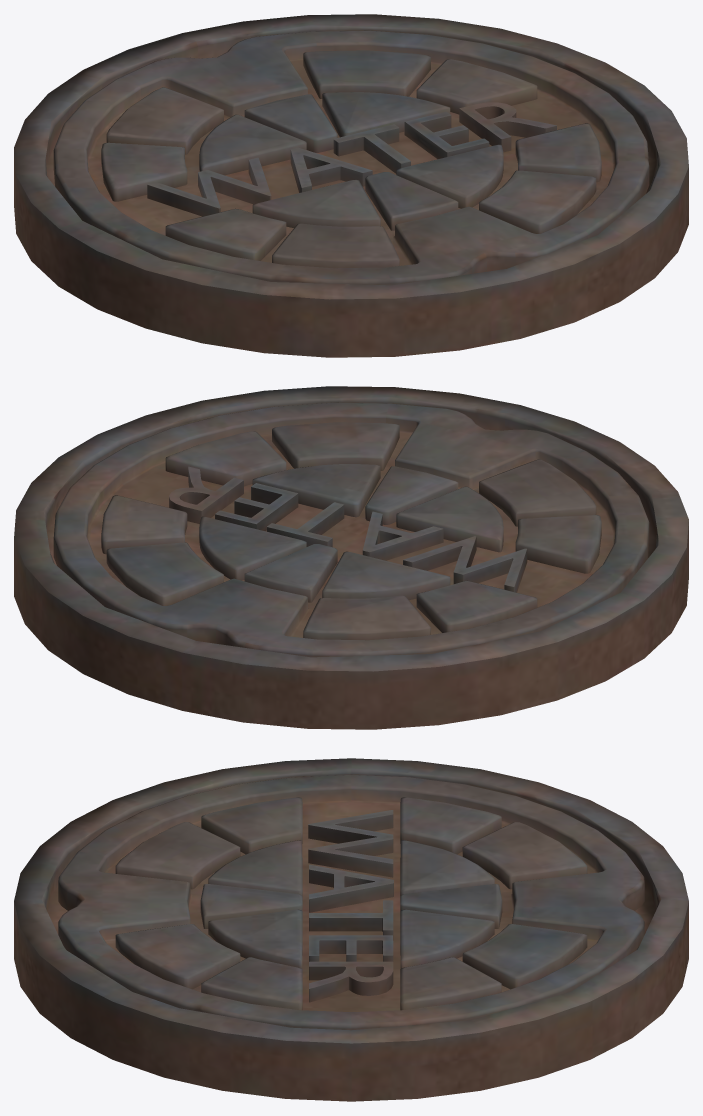
Rendered from water_manhole_cover.glb.
3 views of the same model, one above another, from view 1: azimuth 30°, elevation 25°; view 2: azimuth 150°, elevation 25°; view 3: azimuth 270°, elevation 25° (orthographic).
Parts seen in each view (by area): view 1: water_manhole_cover, water_manhole_cover_frame; view 2: water_manhole_cover, water_manhole_cover_frame; view 3: water_manhole_cover, water_manhole_cover_frame.
Part boxes in pixels (x1,y1,x2,y2): water_manhole_cover: (53, 30, 649, 285); water_manhole_cover_frame: (14, 14, 688, 357); water_manhole_cover: (53, 402, 649, 657); water_manhole_cover_frame: (14, 386, 688, 729); water_manhole_cover: (58, 774, 644, 1030); water_manhole_cover_frame: (14, 758, 688, 1101).
Size of the model in its own units: 0.6908 by 0.0676 by 0.6908.
Materials: 1 (1 with a texture image).
